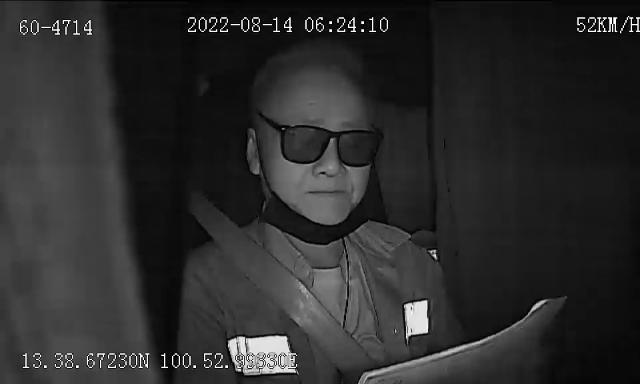Seatbelt: (178, 179, 380, 384)
